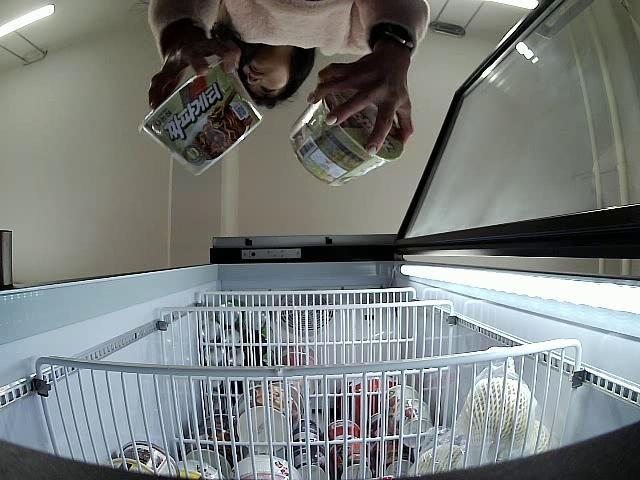03_chapagetti_L: (140, 55, 262, 180), (291, 88, 404, 189)
